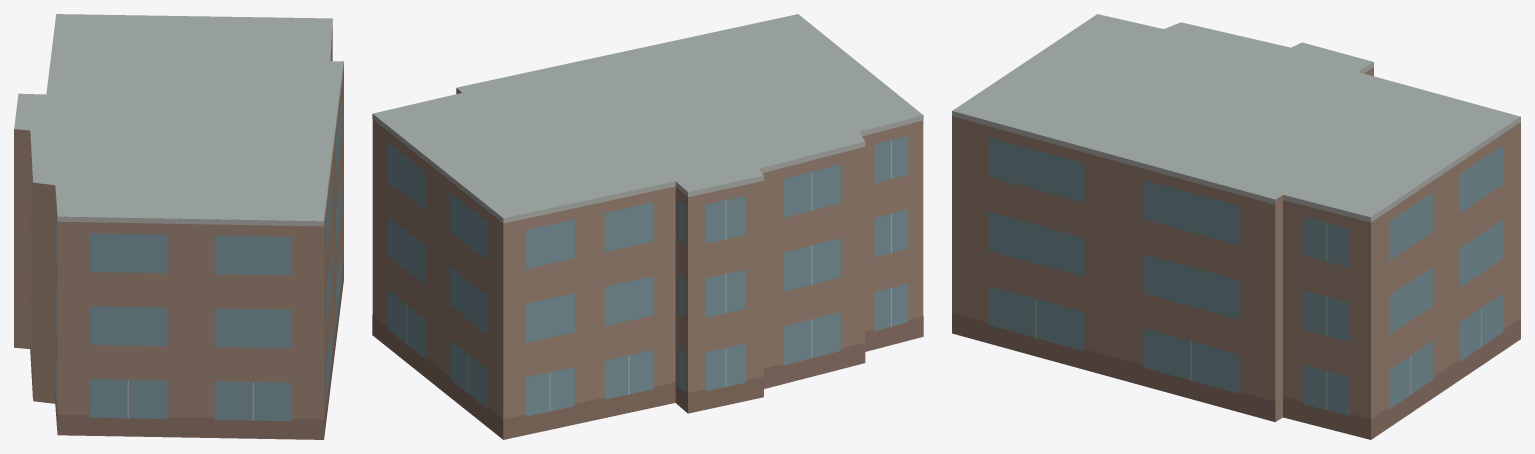
Rendered from survey-upis-32492530.glb.
3 renders of one model, left to right at view 1: azimuth 30°, elevation 25°; view 2: azimuth 150°, elevation 25°; view 3: azimuth 270°, elevation 25°, orthographic.
Parts seen in each view (by area): view 1: survey-upis-32492530.tmp; view 2: survey-upis-32492530.tmp; view 3: survey-upis-32492530.tmp.
Part boxes in pixels (x1,y1,x2,y2): survey-upis-32492530.tmp: (14,14,343,439); survey-upis-32492530.tmp: (372,14,923,439); survey-upis-32492530.tmp: (952,14,1520,439).
Bounding box in the file's own units: 20.31 × 10.36 × 24.
